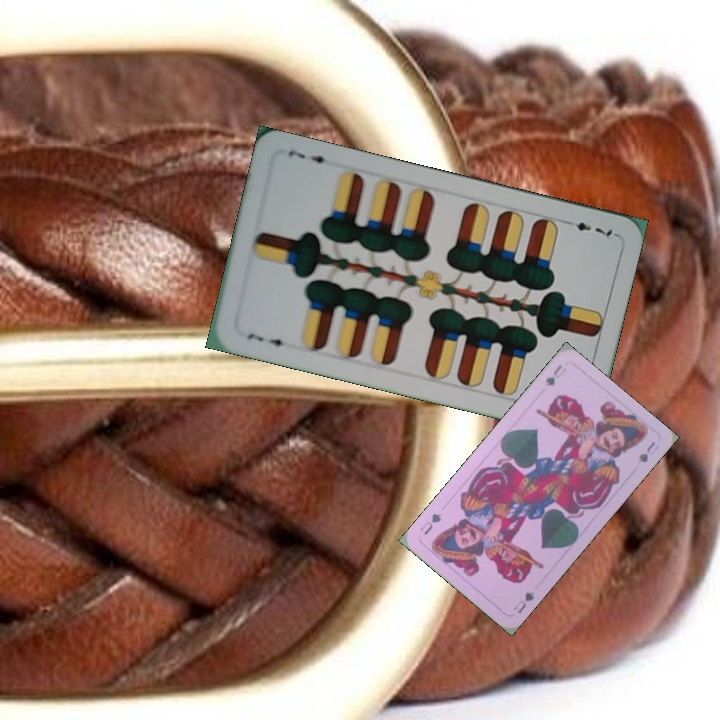E7: (560, 215, 618, 239), (243, 329, 292, 352)
GU: (509, 587, 537, 616), (541, 360, 569, 389)
